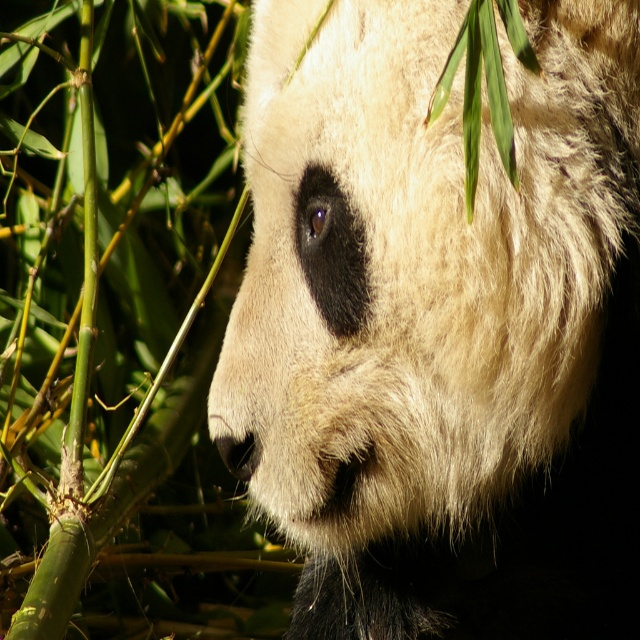Panda: (204, 0, 639, 639)
